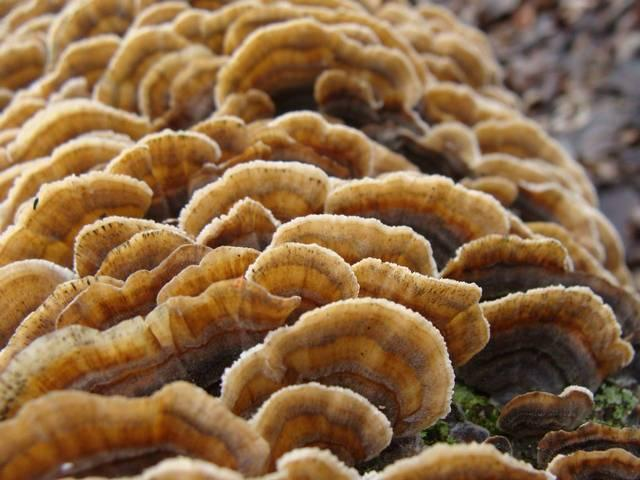Non-edible Mushroom: (0, 0, 638, 478), (219, 295, 456, 441)
